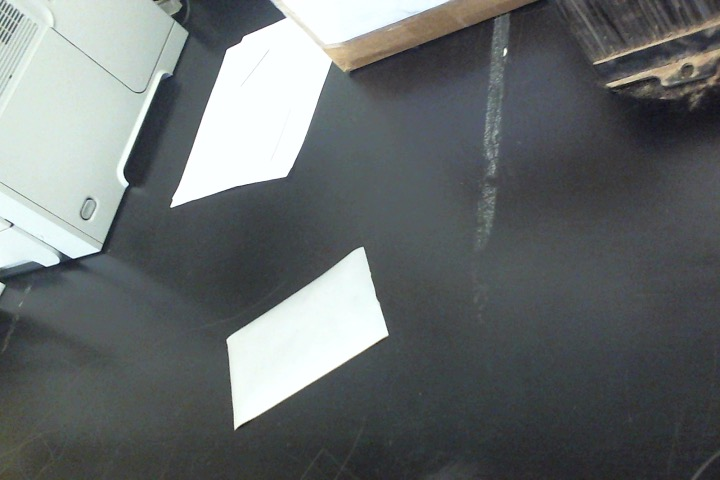Tape: (226, 246, 389, 429)
